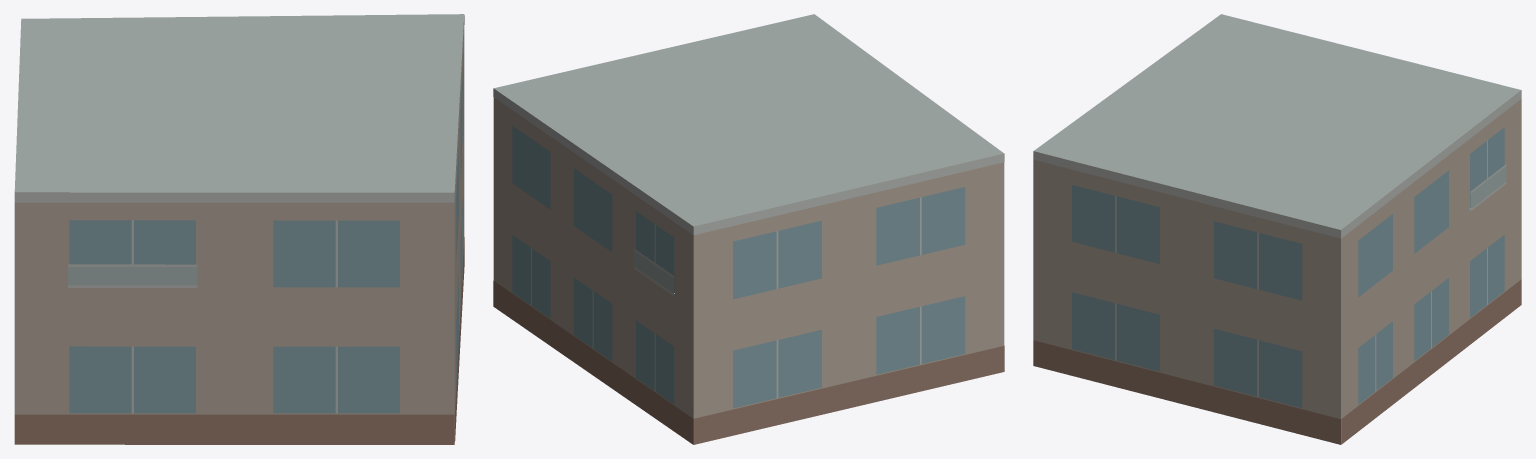
File: survey-upis-32788729.glb
The picture shows the model from 3 angles, left to right: view 1: azimuth 30°, elevation 25°; view 2: azimuth 150°, elevation 25°; view 3: azimuth 270°, elevation 25°; orthographic projection. The views are drawn at different scales.
Parts seen in each view (by area): view 1: survey-upis-32788729.tmp; view 2: survey-upis-32788729.tmp; view 3: survey-upis-32788729.tmp.
Part boxes in pixels (<box>): survey-upis-32788729.tmp: <box>14,14,464,444</box>; survey-upis-32788729.tmp: <box>493,14,1004,444</box>; survey-upis-32788729.tmp: <box>1033,14,1521,444</box>.
Size of the model in its own units: 13.17 by 6.1 by 12.57.
